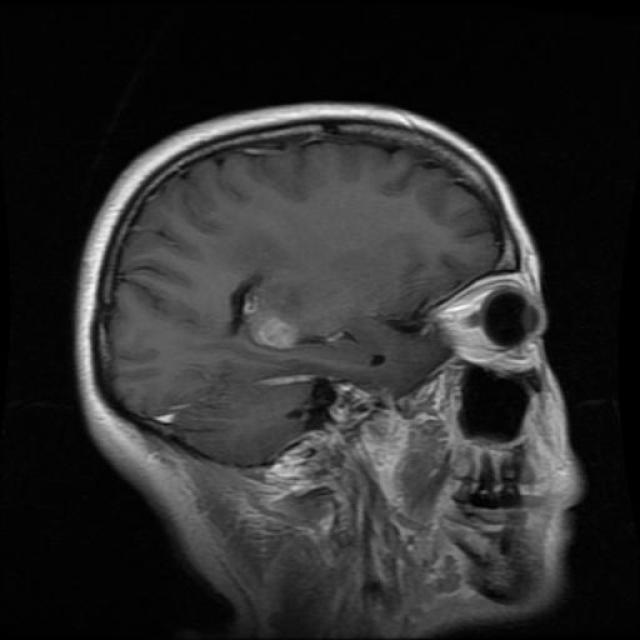glioma: (226, 272, 304, 352)
